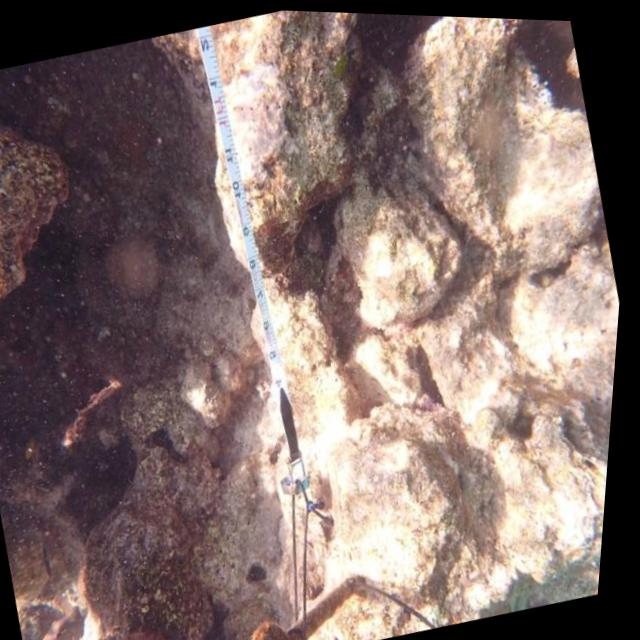Bleached Coral: (188, 35, 325, 196)
